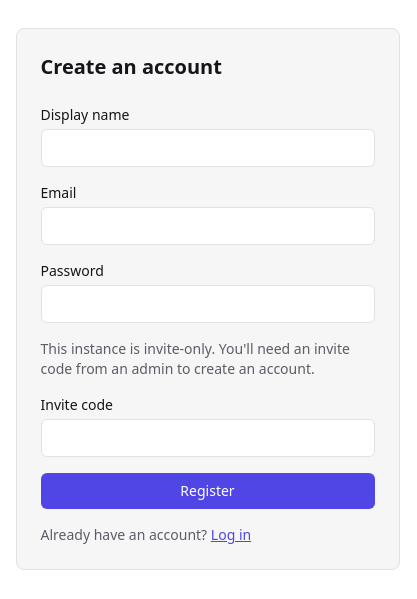
Test case: RegisterPage › attaches the same error to the invite-code field instead, when registration is invite-only
Expected: the field labelled "Invite code" is shown, [40, 419, 374, 457]
Type "Jamie" into the field labelled "Display name".
click(208, 148); type("Jamie")  # box [40, 129, 374, 167]
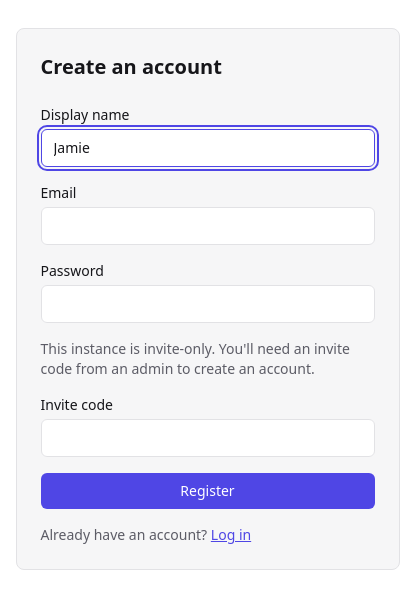
Type "jamie@example.com" into the field labelled "Email".
click(208, 226); type("jamie@example.com")  # box [40, 207, 374, 245]
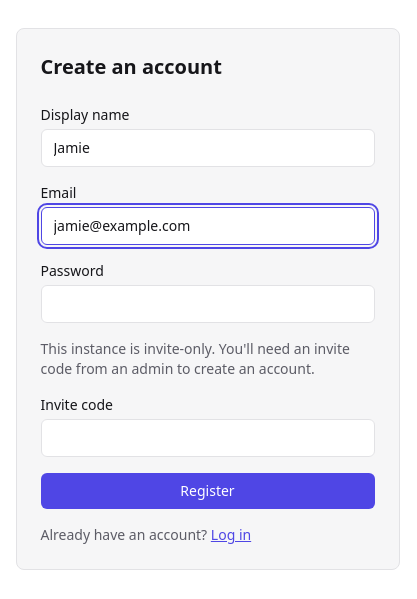
Type "correct-horse-battery-staple" into the password field labelled "Password".
click(208, 304); type("correct-horse-battery-staple")  # box [40, 285, 374, 323]
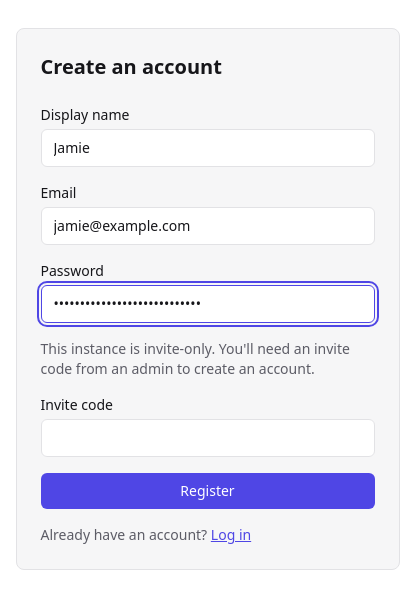
Type "wrong-code" into the field labelled "Invite code".
click(208, 438); type("wrong-code")  # box [40, 419, 374, 457]
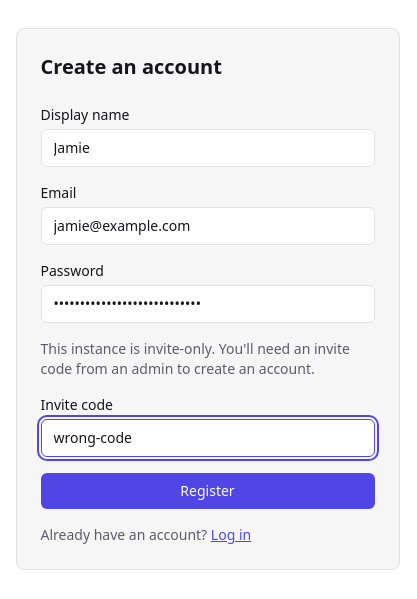
Click the button "Register".
click(208, 491)  # box [40, 473, 374, 509]
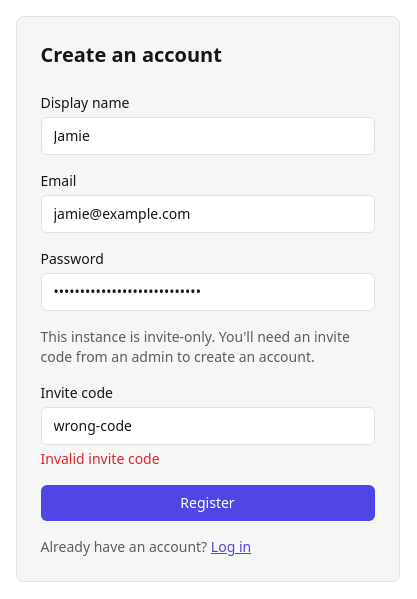
Expected: the message reads "Invalid invite code", [40, 449, 160, 468]
Expected: the number of messages is 1, [40, 449, 160, 468]
